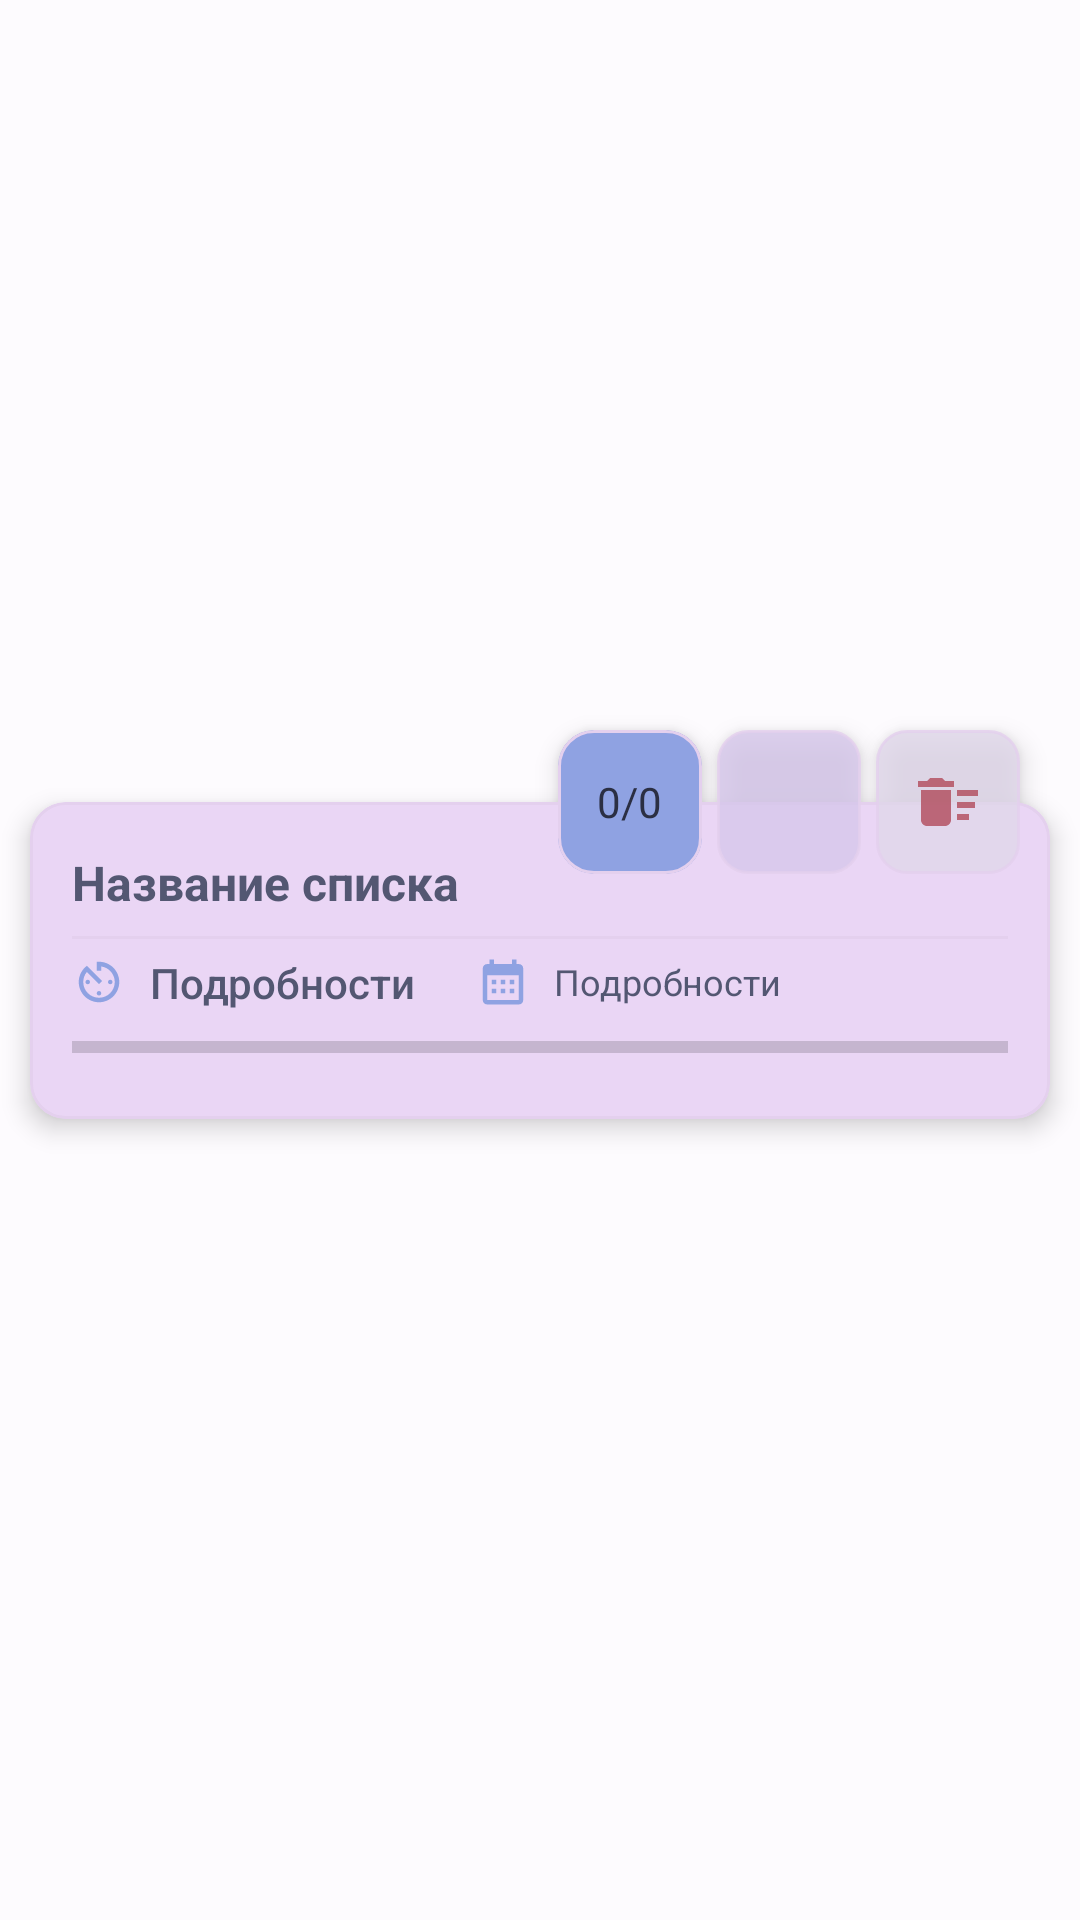

Screen size 1080 x 1920. Icon name, then its center in pixels as point (x, y):
calendar: point (503, 982)
time format: point (99, 982)
Вы хотите удалить этот список?: point (948, 802)
